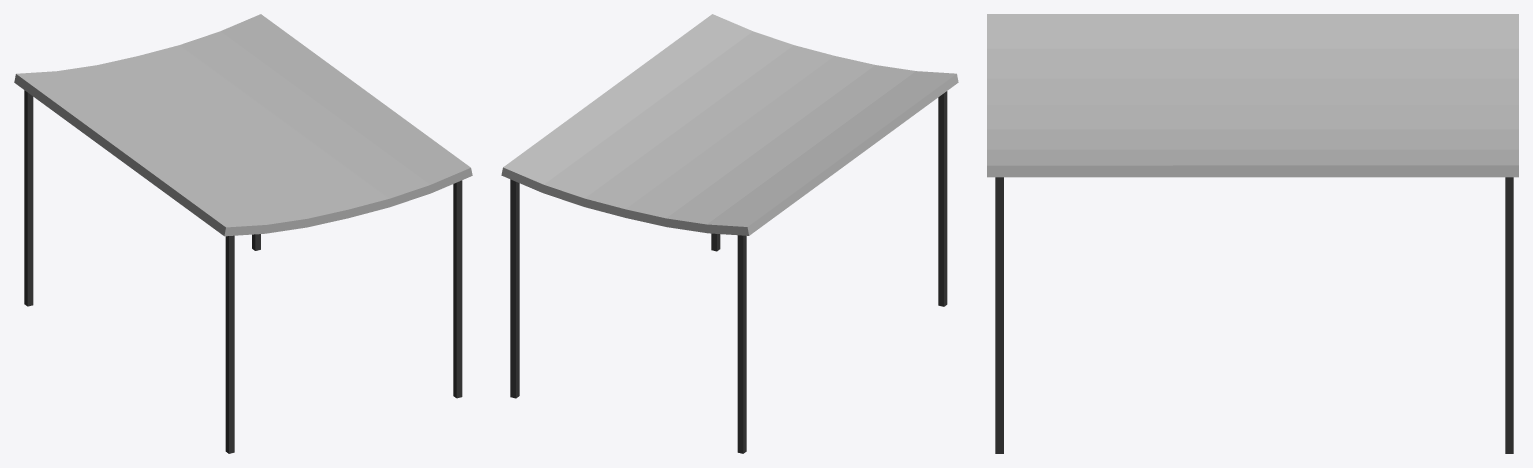
Rendered from awning_C.FBX.
3 renders of one model, left to right at view 1: azimuth 30°, elevation 25°; view 2: azimuth 150°, elevation 25°; view 3: azimuth 270°, elevation 25°, orthographic. The views are drawn at different scales.
Visible parts, largest first — view 1: awning_C; view 2: awning_C; view 3: awning_C.
Part boxes in pixels (x1=…): awning_C: x1=14, y1=14, x2=472, y2=453; awning_C: x1=501, y1=14, x2=958, y2=453; awning_C: x1=987, y1=14, x2=1518, y2=453.
Bounding box in the file's own units: 158 × 140 × 231.
